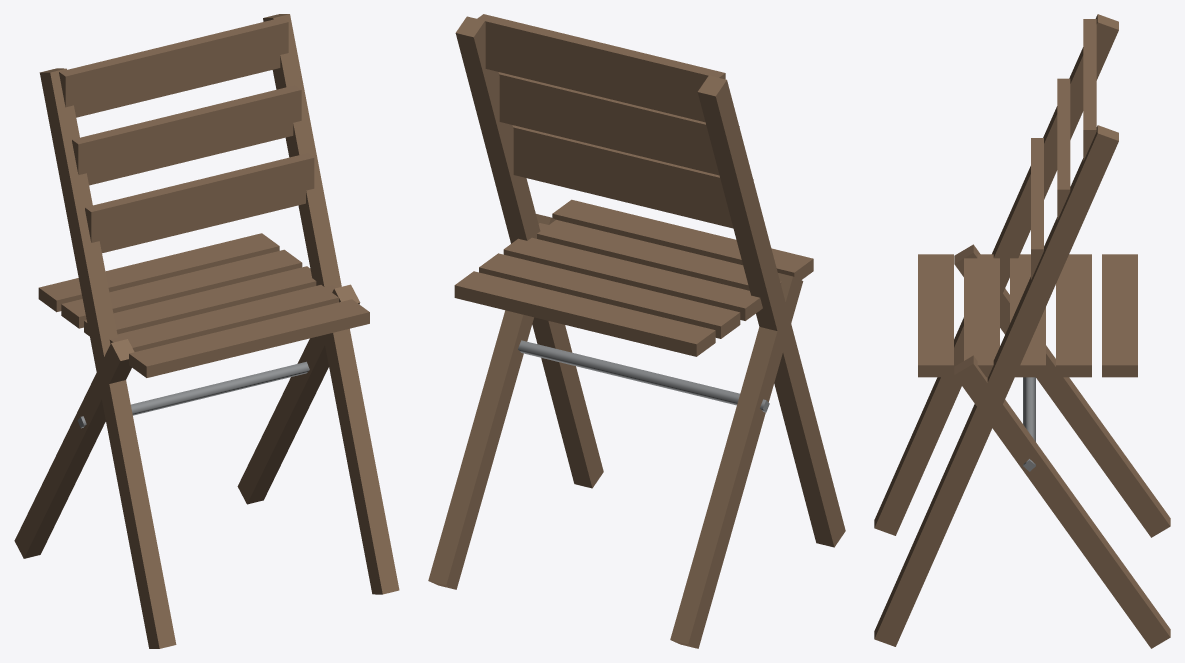
File: folding_chair.glb
The picture shows the model from 3 angles, left to right: view 1: azimuth 30°, elevation 25°; view 2: azimuth 150°, elevation 25°; view 3: azimuth 270°, elevation 25°; orthographic projection. The views are drawn at different scales.
Visible parts, largest first — view 1: wood__folding_chair__ns, steel__folding_chair__ns; view 2: wood__folding_chair__ns, steel__folding_chair__ns; view 3: wood__folding_chair__ns, steel__folding_chair__ns.
Boxes of the visible parts, box(x1,y1,x2,y2) form: wood__folding_chair__ns: box(14, 14, 399, 648); steel__folding_chair__ns: box(77, 361, 309, 428); wood__folding_chair__ns: box(428, 14, 845, 648); steel__folding_chair__ns: box(518, 340, 769, 412); wood__folding_chair__ns: box(874, 14, 1170, 648); steel__folding_chair__ns: box(1023, 377, 1035, 471).
Bounding box in the file's own units: 0.44 × 0.8661 × 0.4509.
